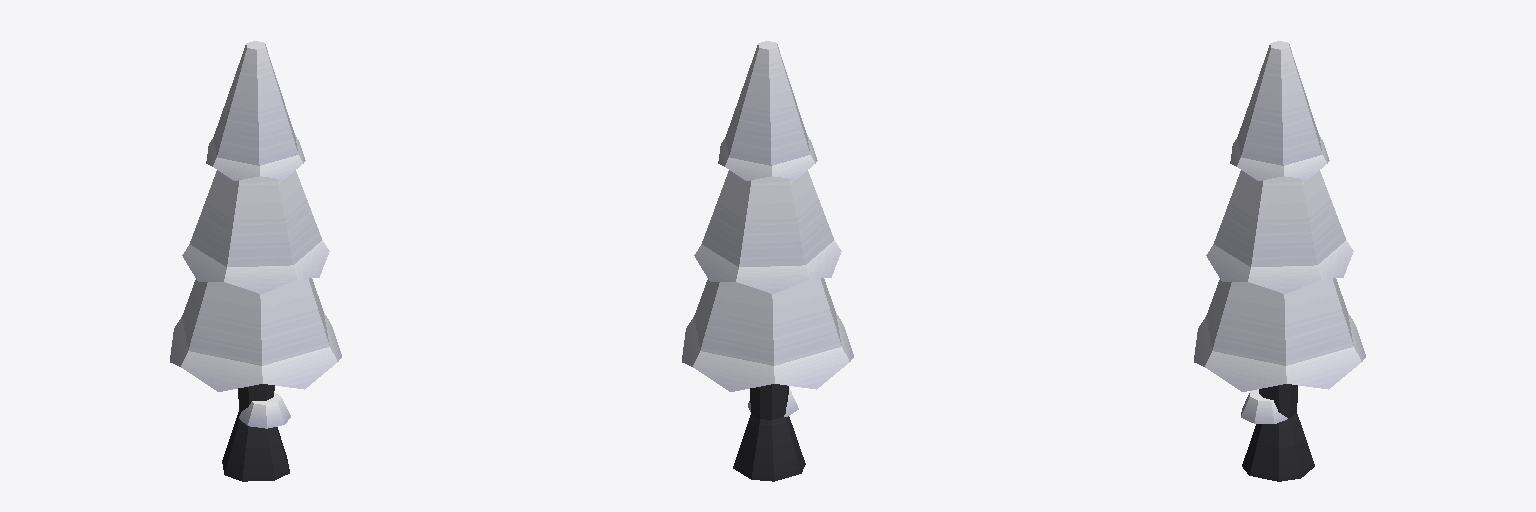
The picture shows the model from 3 angles: view 1: azimuth 30°, elevation 25°; view 2: azimuth 150°, elevation 25°; view 3: azimuth 270°, elevation 25°; orthographic projection.
Visible parts, largest first — view 1: tree.055; view 2: tree.055; view 3: tree.055.
Part boxes in pixels (x1,y1,x2,y2): tree.055: (170,41,341,481); tree.055: (682,41,853,481); tree.055: (1194,41,1365,481).
Bounding box in the file's own units: 1.36 × 3.47 × 1.29.
Materials: 1 (1 with a texture image).